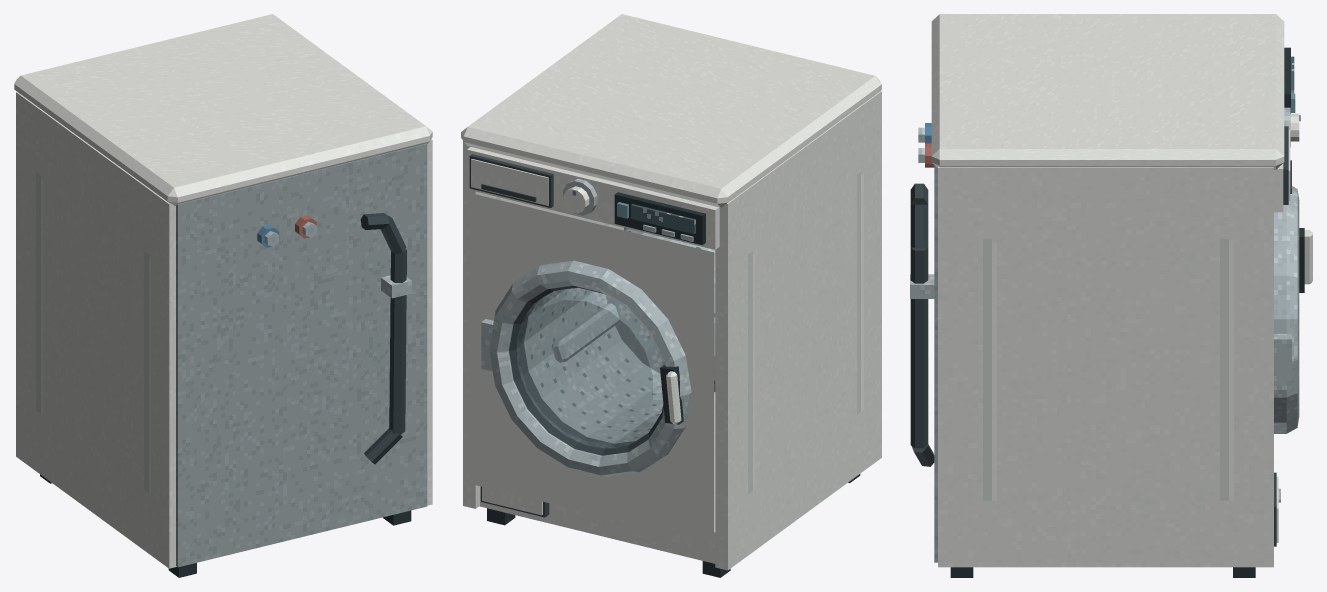
Rendered from f_washer.glb.
The picture shows the model from 3 angles, left to right: view 1: azimuth 30°, elevation 25°; view 2: azimuth 150°, elevation 25°; view 3: azimuth 270°, elevation 25°; orthographic projection. The views are drawn at different scales.
Parts seen in each view (by area): view 1: block_back-panel, block_pressed-enamel-side (×2), block_enamel-worktop, block_clipped-drain-hose (×2); view 2: block_pressed-enamel-side (×2), block_enamel-worktop, block_seamless-enamel-front, block_curved-door-glass, block_perforated-drum-wall, block_beveled-stainless-door-bezel, block_upper-control-fascia, block_bottom-case, block_rubber-door-seal, block_detergent-drawer, block_raised-drum-paddle, block_control-display-frame (+8 smaller); view 3: block_pressed-enamel-side, block_enamel-worktop, block_beveled-stainless-door-bezel, block_clipped-drain-hose (×2), block_back-panel, block_door-hinge.
Part boxes in pixels (x1,y1,x2,y2): block_back-panel: [176, 143, 427, 567]; block_pressed-enamel-side (×2): [16, 92, 432, 568]; block_enamel-worktop: [14, 14, 432, 205]; block_clipped-drain-hose (×2): [364, 249, 406, 464]; block_pressed-enamel-side (×2): [463, 91, 881, 570]; block_enamel-worktop: [461, 14, 881, 207]; block_seamless-enamel-front: [468, 192, 714, 543]; block_curved-door-glass: [516, 288, 663, 448]; block_perforated-drum-wall: [524, 228, 715, 443]; block_beveled-stainless-door-bezel: [489, 260, 691, 476]; block_upper-control-fascia: [467, 147, 719, 249]; block_bottom-case: [479, 392, 715, 563]; block_rubber-door-seal: [509, 285, 663, 455]; block_detergent-drawer: [471, 159, 548, 205]; block_raised-drum-paddle: [551, 303, 619, 362]; block_control-display-frame: [614, 192, 705, 245]; block_pressed-enamel-side: [938, 166, 1273, 567]; block_enamel-worktop: [931, 14, 1284, 169]; block_beveled-stainless-door-bezel: [1274, 186, 1299, 433]; block_clipped-drain-hose (×2): [910, 204, 928, 448]; block_back-panel: [934, 165, 937, 562]; block_door-hinge: [1274, 333, 1291, 389].
Bounding box in the file's own units: 0.61 × 0.871 × 0.732.
Materials: 3 (3 with a texture image).
